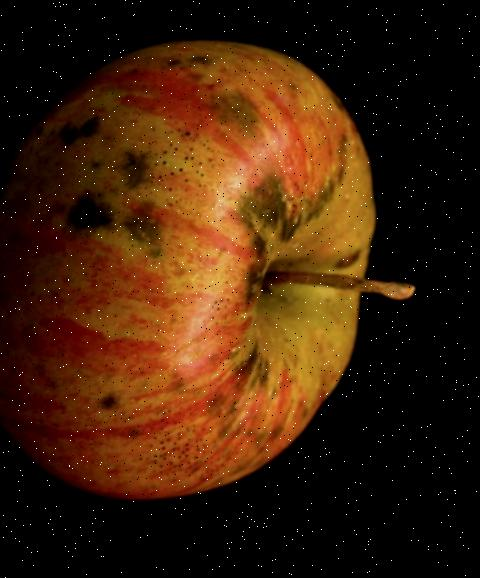BLOTCH: (0, 0, 474, 549)
